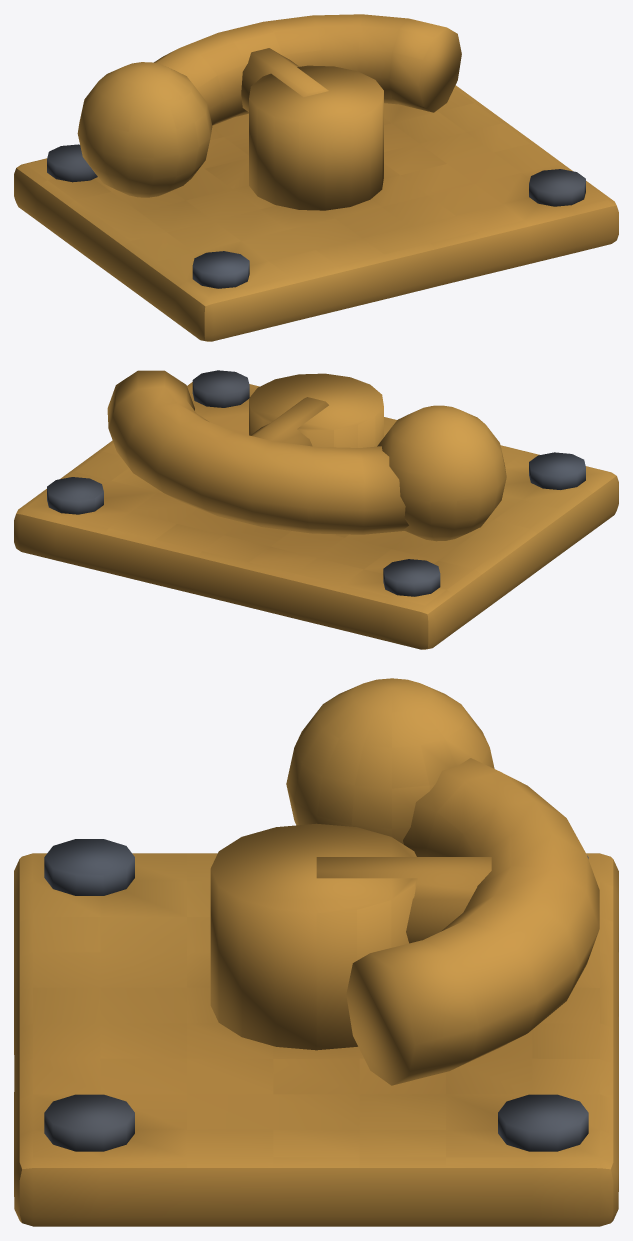
The model's file is frost_sash_latch.glb.
3 renders of one model, top to bottom at view 1: azimuth 30°, elevation 25°; view 2: azimuth 150°, elevation 25°; view 3: azimuth 270°, elevation 25°, orthographic. The views are drawn at different scales.
Visible parts, largest first — view 1: frost_sash_latch; view 2: frost_sash_latch; view 3: frost_sash_latch.
Boxes of the visible parts, left/top/right/bottom form: frost_sash_latch: left=14, top=14, right=618, bottom=341; frost_sash_latch: left=14, top=370, right=618, bottom=649; frost_sash_latch: left=14, top=678, right=618, bottom=1226.
Bounding box in the file's own units: 5 × 2 × 4.
